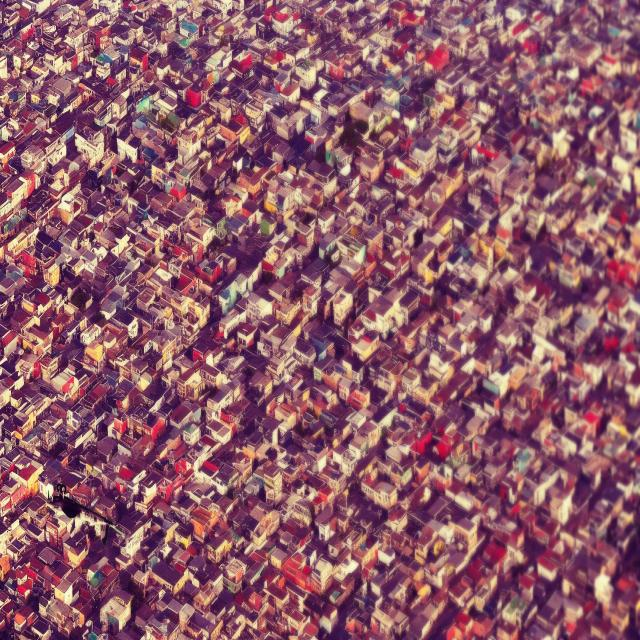airplane: (46, 484, 126, 544)
